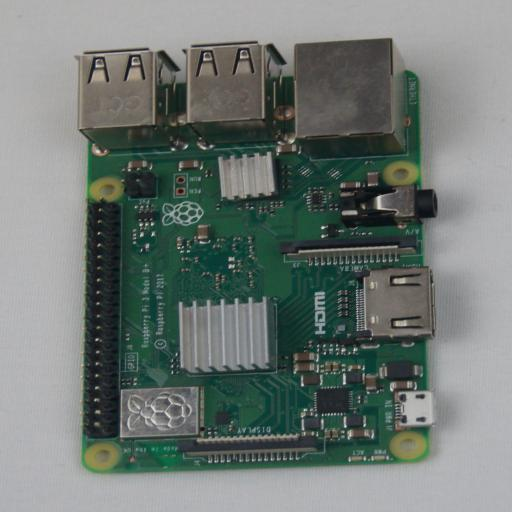Raspberry Pi 3 B-: (76, 38, 438, 473)
